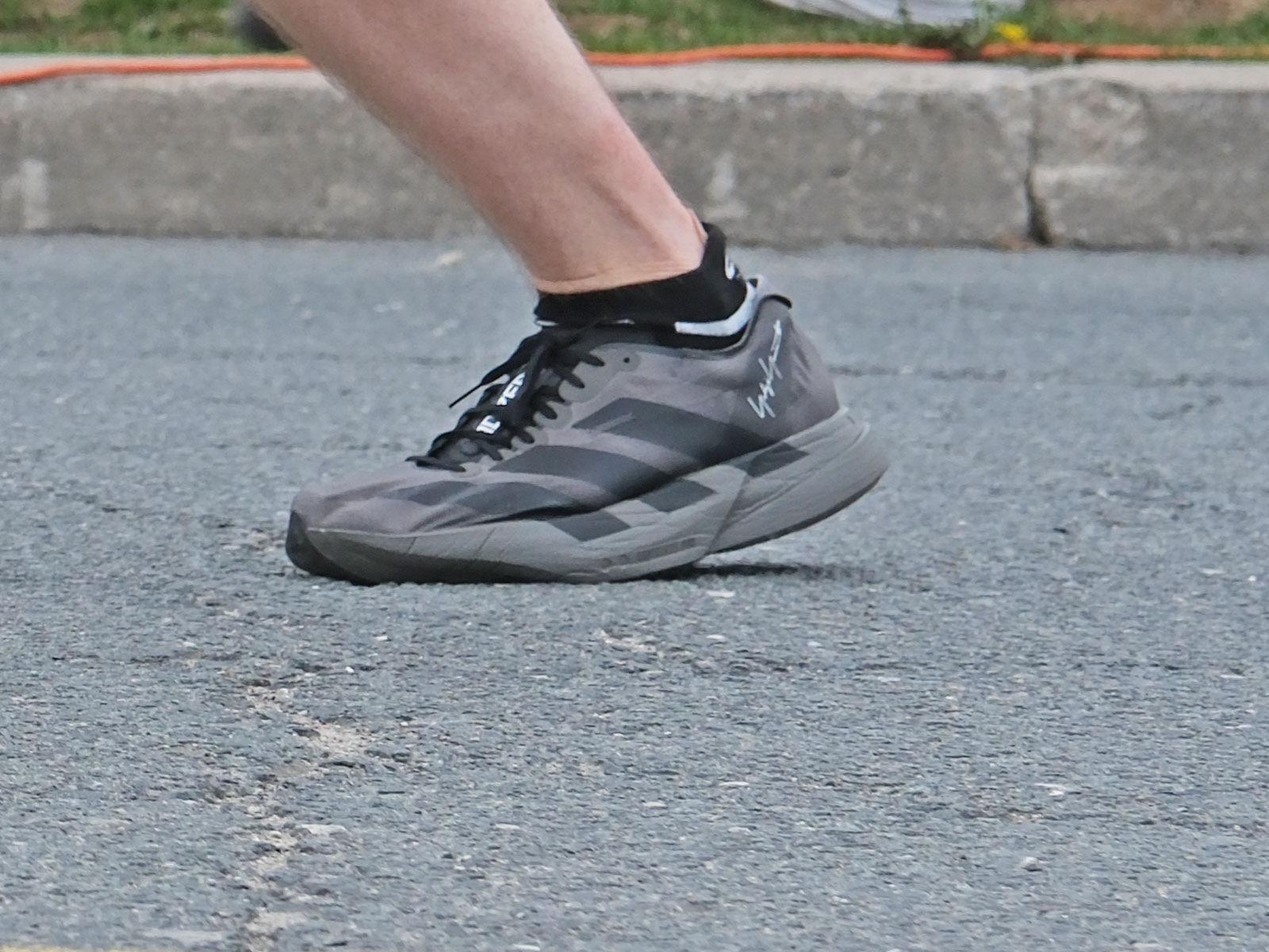adidas logo: (383, 376, 821, 558)
